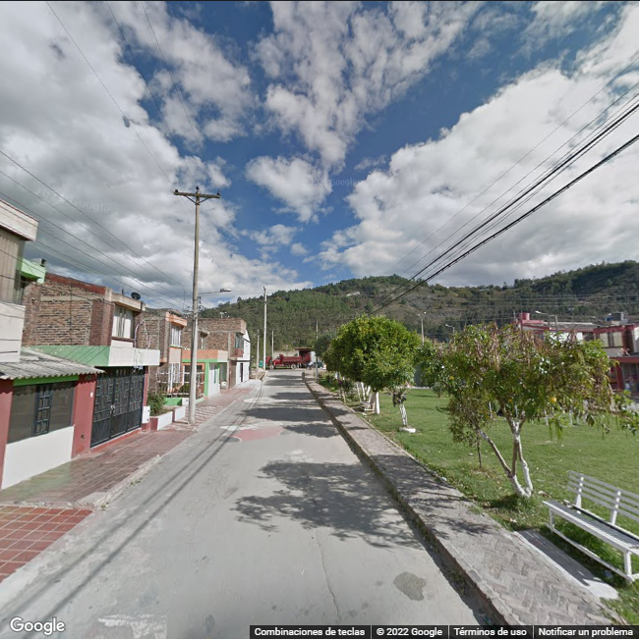D00: (313, 520, 346, 618)
D20: (179, 469, 233, 520)
